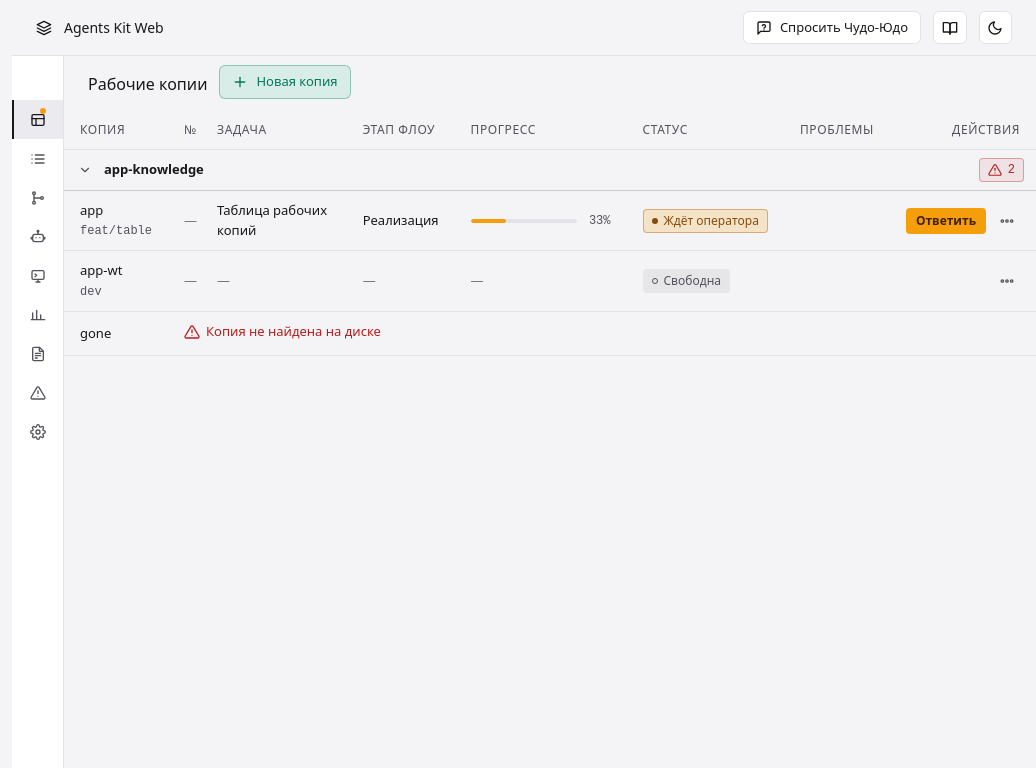
Test case: группа сворачивается кликом по любому месту шапки, а число проблем базы её не сворачивает
Click the text "app-knowledge" at (154, 170), box top-left (104, 160), bottom-right (204, 180)
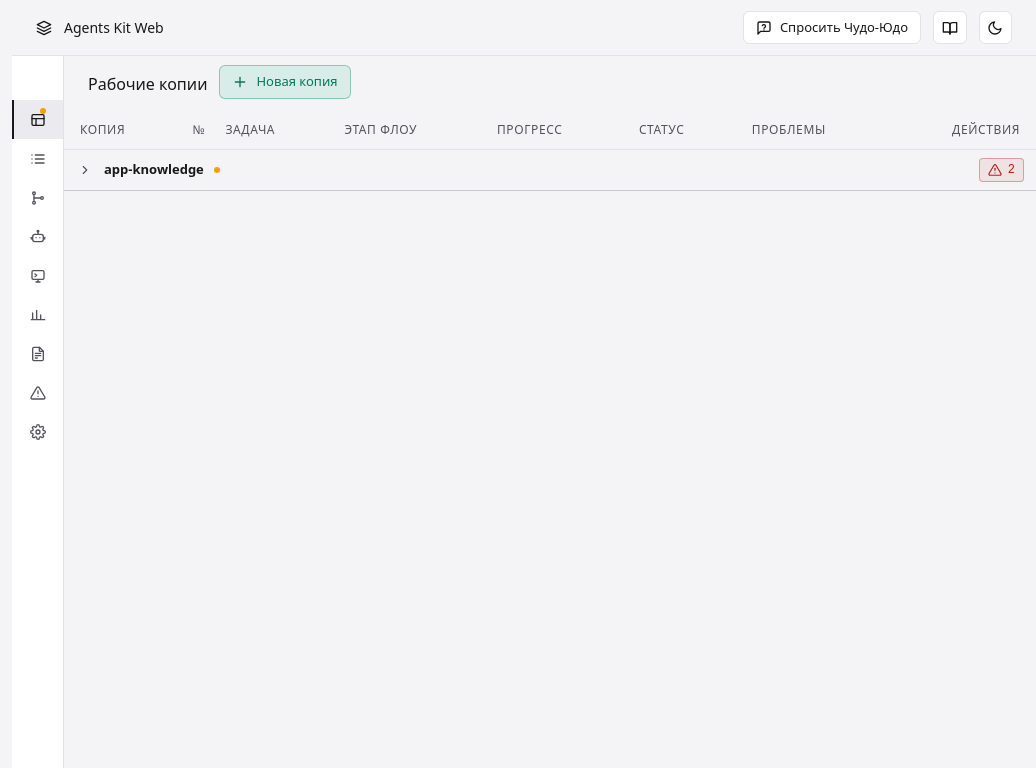
Now the text "Таблица рабочих копий" is gone
Now the button named "Развернуть app-knowledge" is collapsed, box top-left (76, 161), bottom-right (94, 179)
Click the column heading "app-knowledge 2" at (550, 170), box top-left (64, 149), bottom-right (1035, 190)
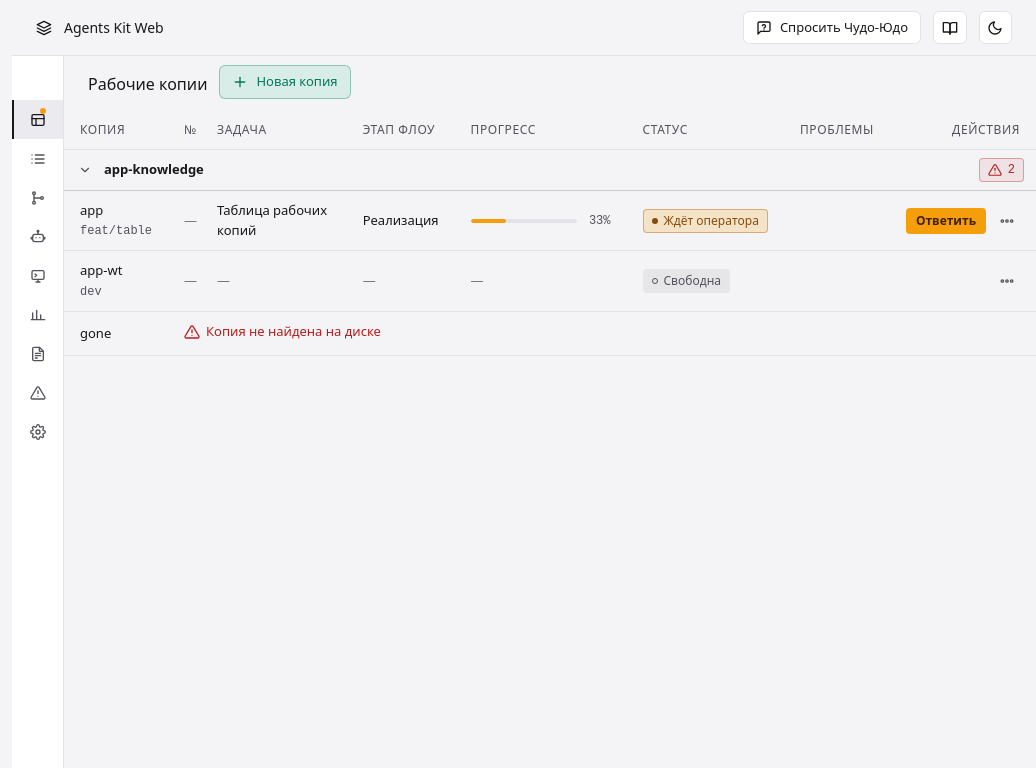
Now the text "Таблица рабочих копий" is shown, box top-left (201, 190), bottom-right (347, 251)
# Кнопка-стрелка сворачивает ровно один раз: её клик не складывается с кликом шапки
Click the button named "Свернуть app-knowledge" at (85, 170), box top-left (76, 161), bottom-right (94, 179)
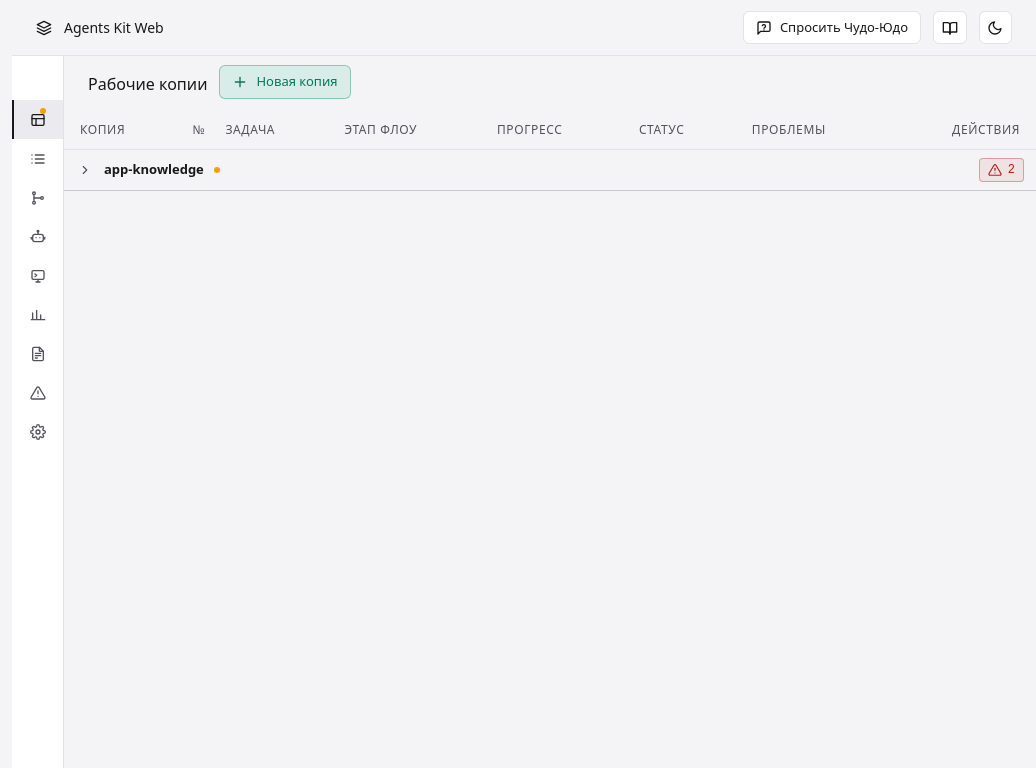
Now the text "Таблица рабочих копий" is gone
Click the button named "Развернуть app-knowledge" at (85, 170), box top-left (76, 161), bottom-right (94, 179)
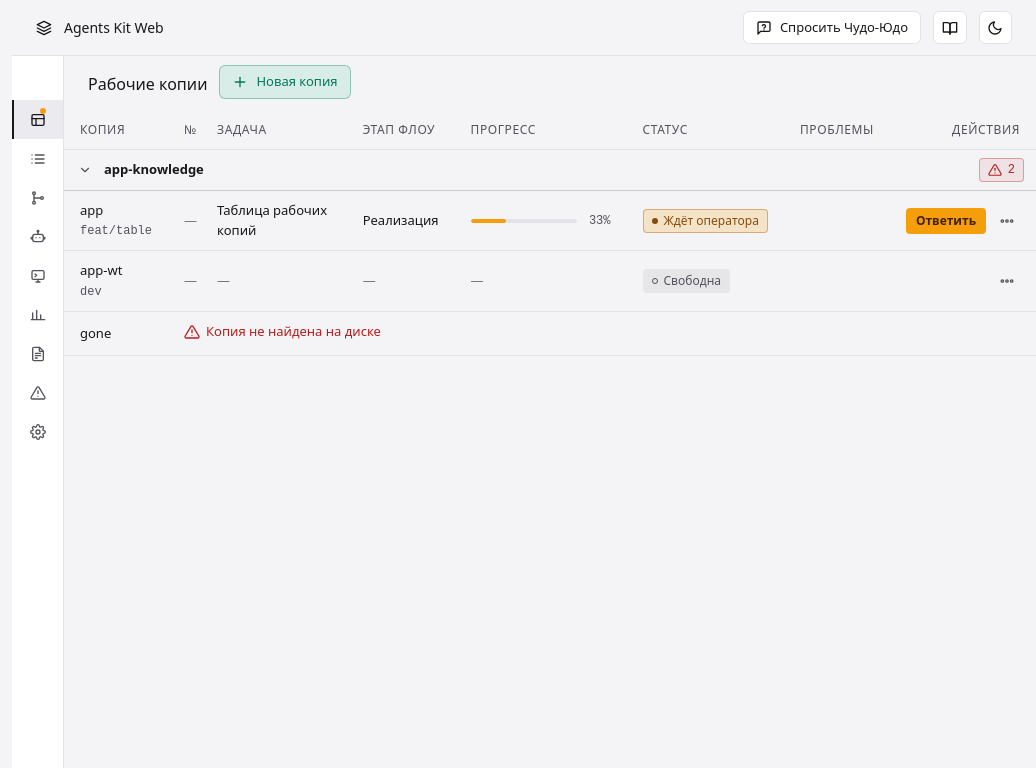
Click the button named "2 проблемы базы — открыть «Проблемы баз»" at (1001, 170), box top-left (979, 158), bottom-right (1024, 182)
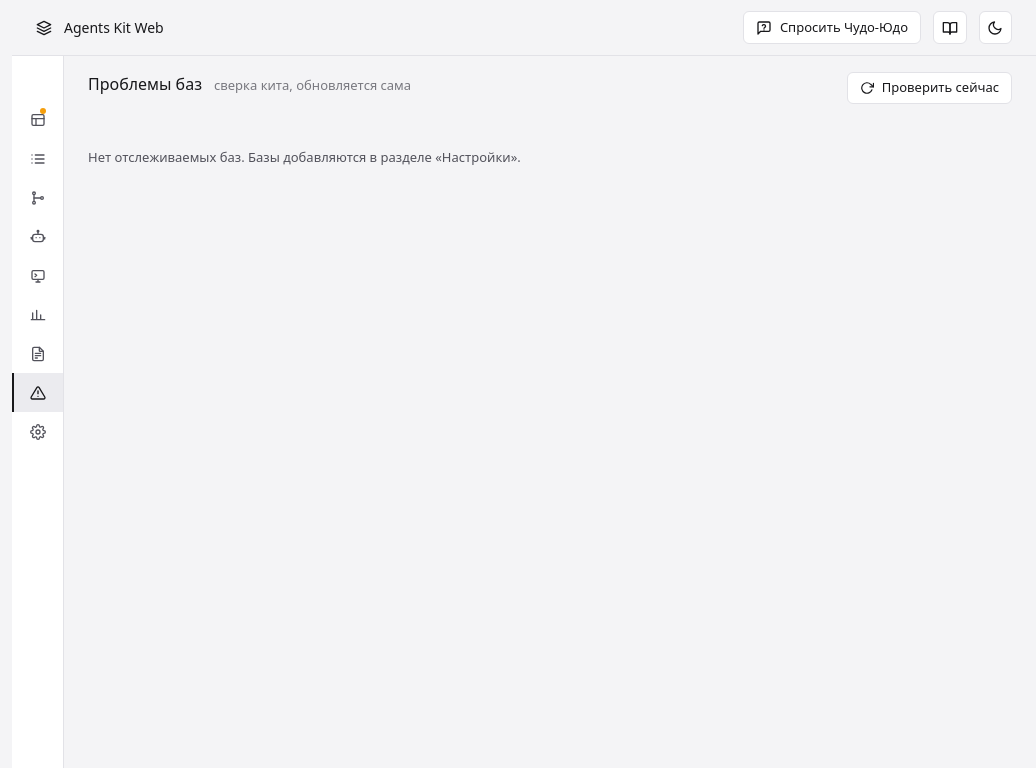
Now the heading "Проблемы баз" is shown, box top-left (88, 72), bottom-right (202, 96)
